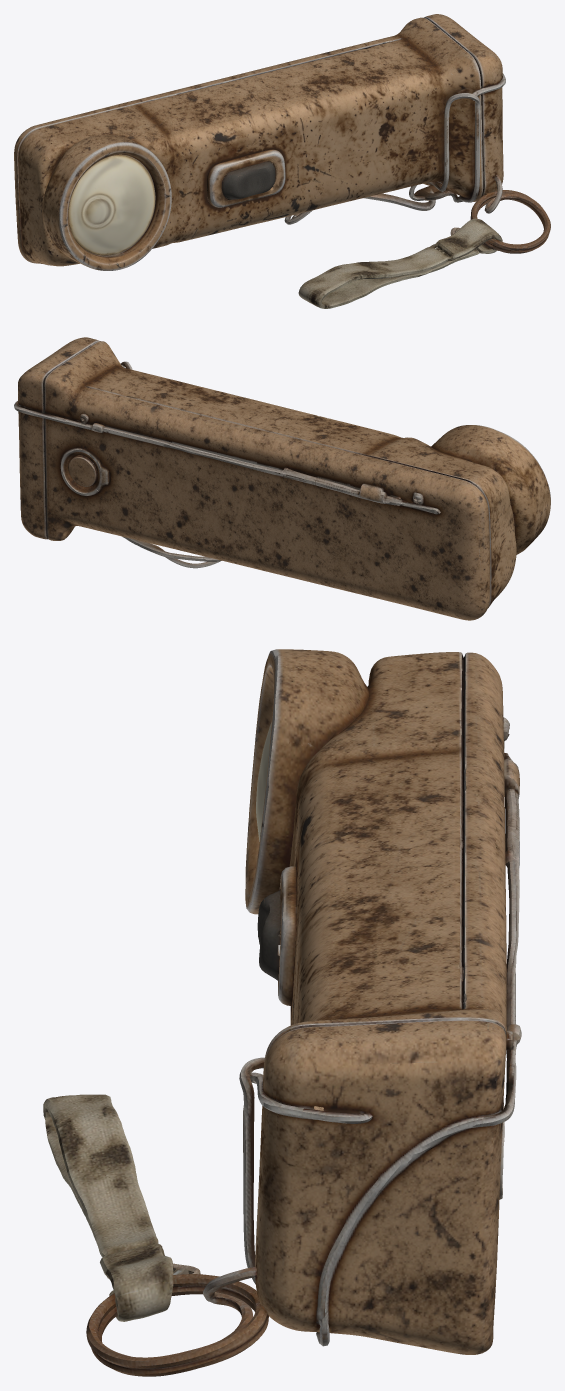
File: lanterna.glb
3 renders of one model, top to bottom at view 1: azimuth 30°, elevation 25°; view 2: azimuth 150°, elevation 25°; view 3: azimuth 270°, elevation 25°, orthographic. The views are drawn at different scales.
Bounding box in the file's own units: 1.9 × 0.6408 × 0.8421.
1 material, 1 textured.
